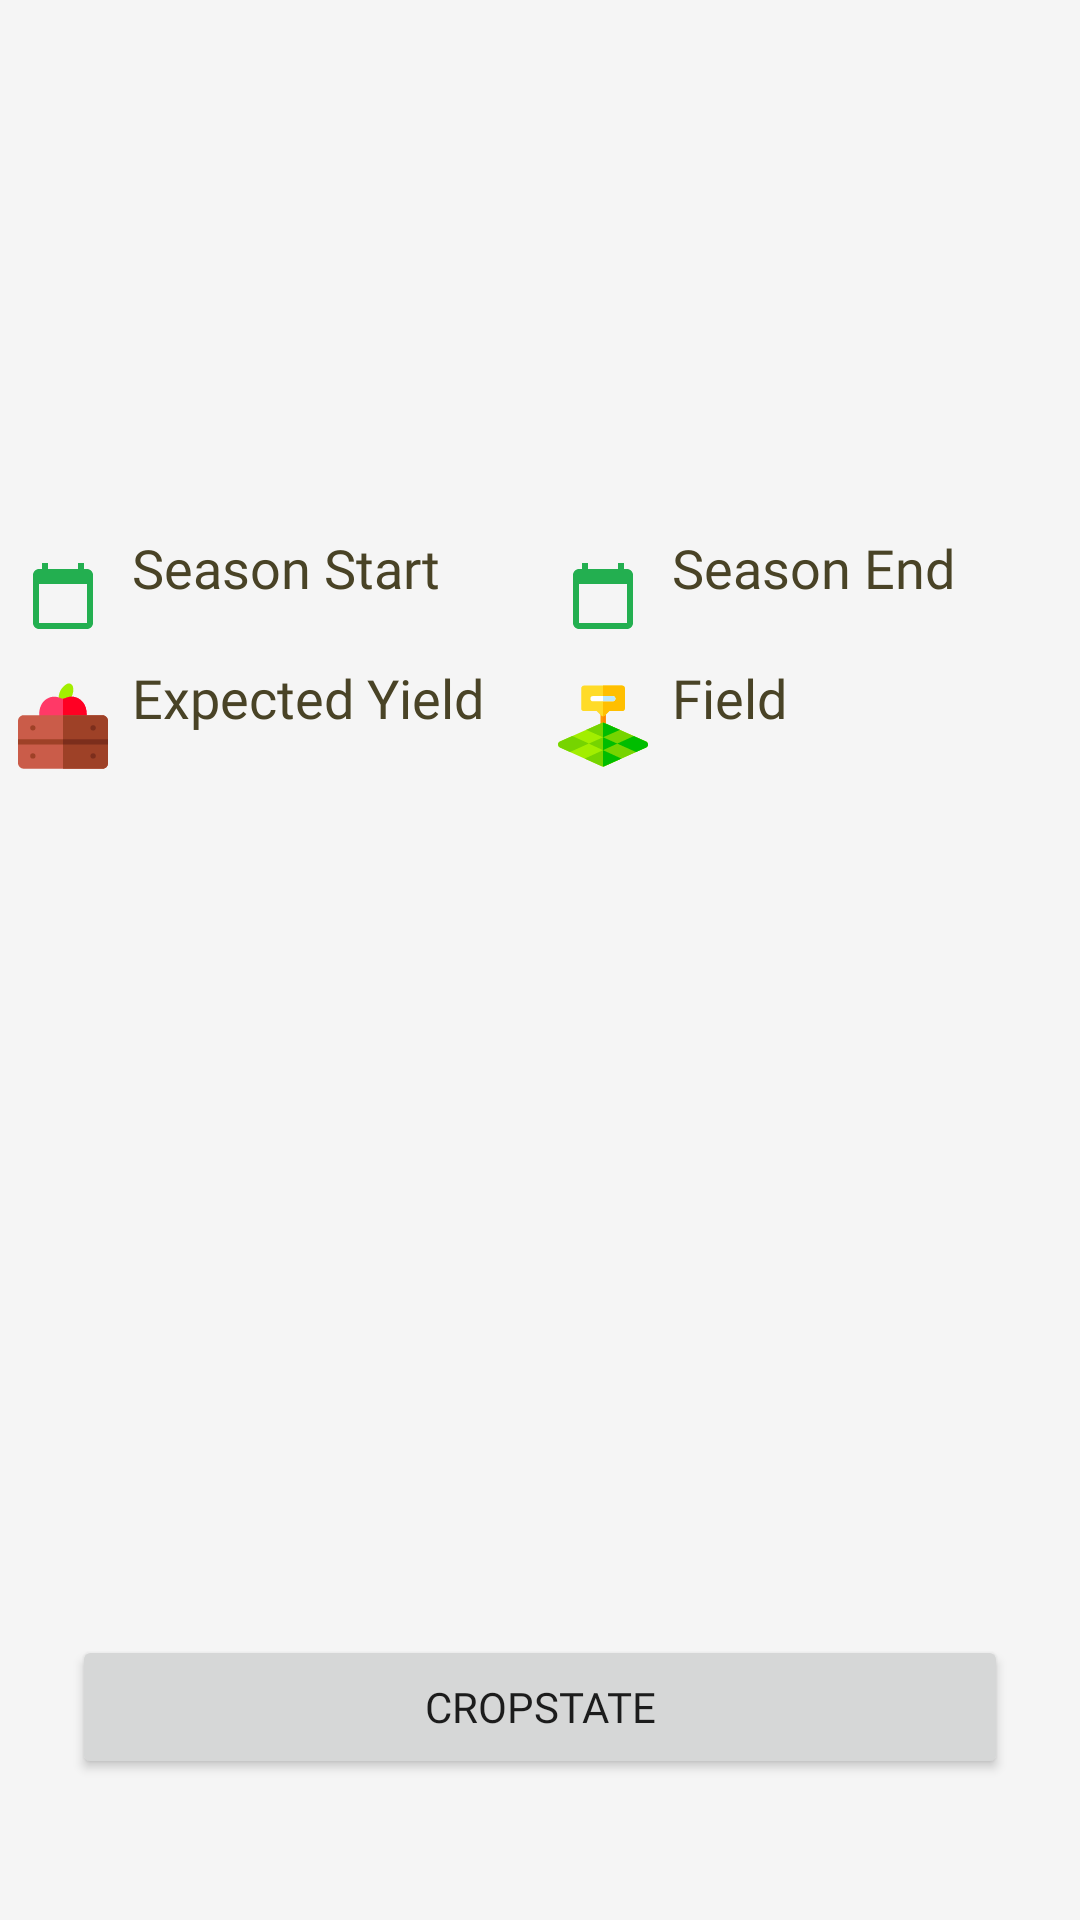

Locate icon controls on the screen. Image size 1080 × 1920, boxes as (x1, y1, x2, y2).
calendar: (33, 563, 93, 629), (573, 563, 633, 629)
fruit: (18, 683, 108, 769)
